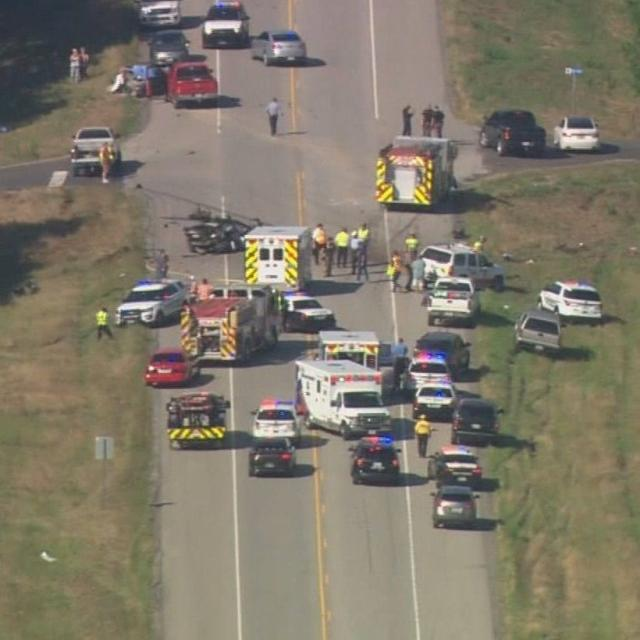traffic_incident: (412, 231, 524, 299), (178, 188, 251, 258)
